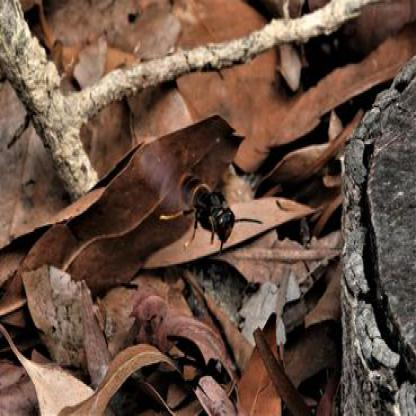Asian Hornet: (159, 167, 265, 251)
